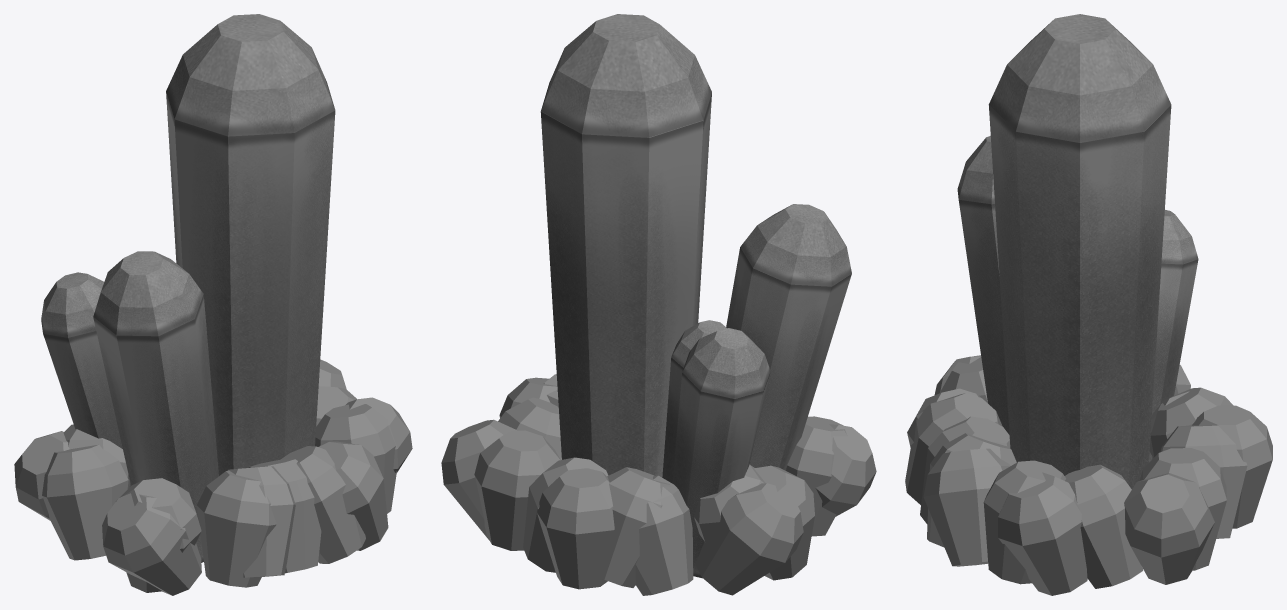
File: Tin Ore.fbx
The picture shows the model from 3 angles, left to right: view 1: azimuth 30°, elevation 25°; view 2: azimuth 150°, elevation 25°; view 3: azimuth 270°, elevation 25°; orthographic projection. The views are drawn at different scales.
Parts seen in each view (by area): view 1: Tin Ore, Tin Nest; view 2: Tin Ore, Tin Nest; view 3: Tin Ore, Tin Nest.
Part boxes in pixels (<box>): Tin Ore: <box>41,14,335,562</box>; Tin Nest: <box>14,359,412,595</box>; Tin Ore: <box>540,14,851,578</box>; Tin Nest: <box>441,374,876,595</box>; Tin Ore: <box>957,14,1198,489</box>; Tin Nest: <box>905,355,1272,595</box>.
Bounding box in the file's own units: 71.54 × 101 × 65.05.
